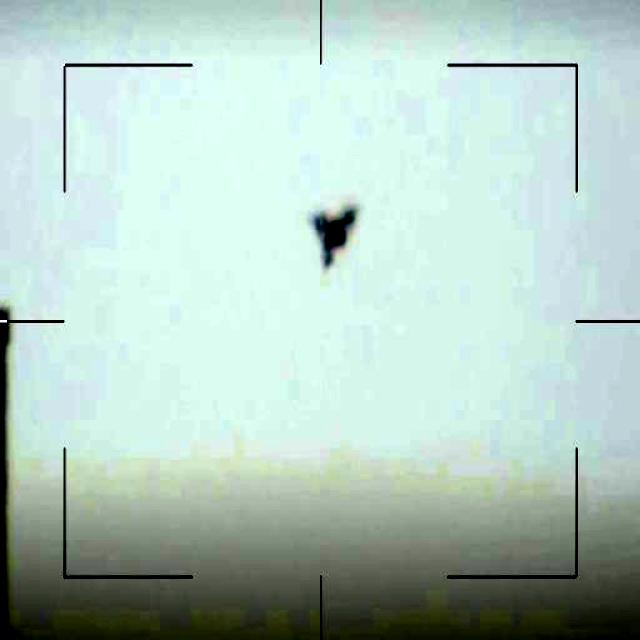bird: (305, 204, 360, 272)
